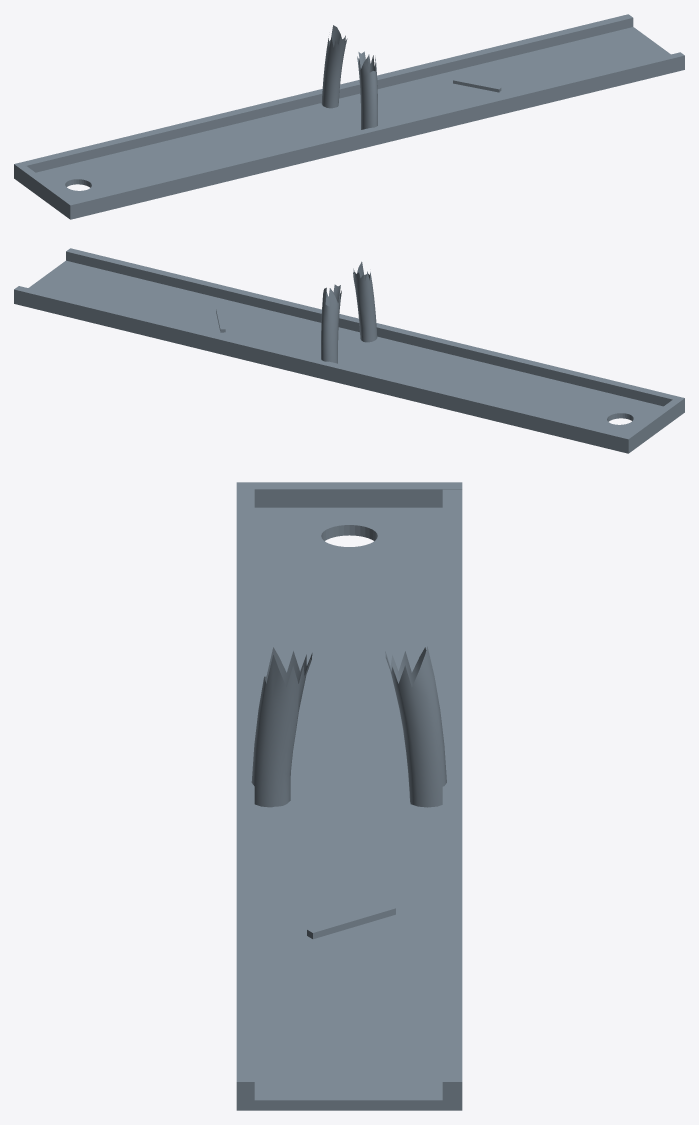
File: golfvr-piste2.glb
The picture shows the model from 3 angles, top to bottom: view 1: azimuth 30°, elevation 25°; view 2: azimuth 150°, elevation 25°; view 3: azimuth 270°, elevation 25°; orthographic projection. The views are drawn at different scales.
Visible parts, largest first — view 1: Cube, Torus; view 2: Cube, Torus; view 3: Cube, Torus, Cube.001.
Part boxes in pixels (box(x1,y1,x2,y2)): Cube: box(14, 14, 684, 219); Torus: box(321, 25, 377, 129); Cube: box(14, 248, 684, 453); Torus: box(321, 261, 377, 363); Cube: box(236, 482, 462, 1110); Torus: box(251, 646, 446, 807); Cube.001: box(307, 905, 395, 939).
Size of the model in its own units: 4 by 0.546 by 0.6366.
